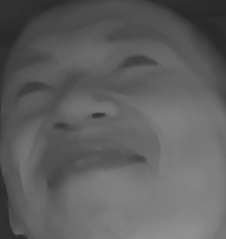eye: (113, 49, 161, 75), (14, 77, 55, 99)
mouth: (41, 137, 147, 197)
